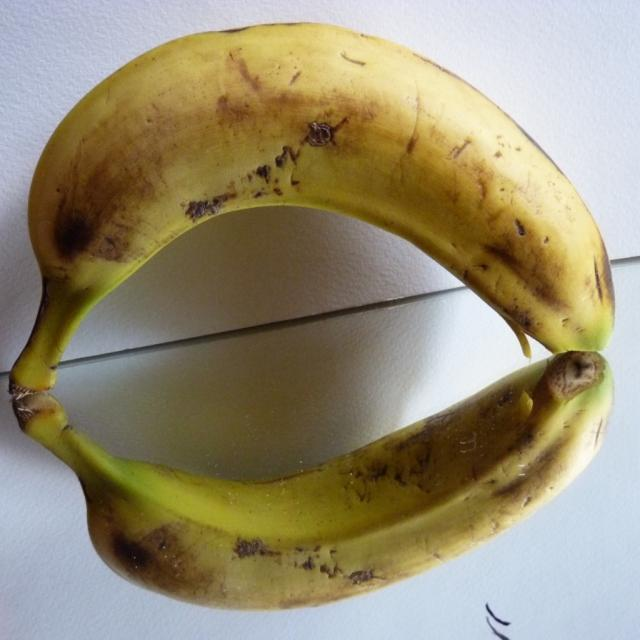Banana: (5, 22, 619, 360), (13, 355, 612, 610)
